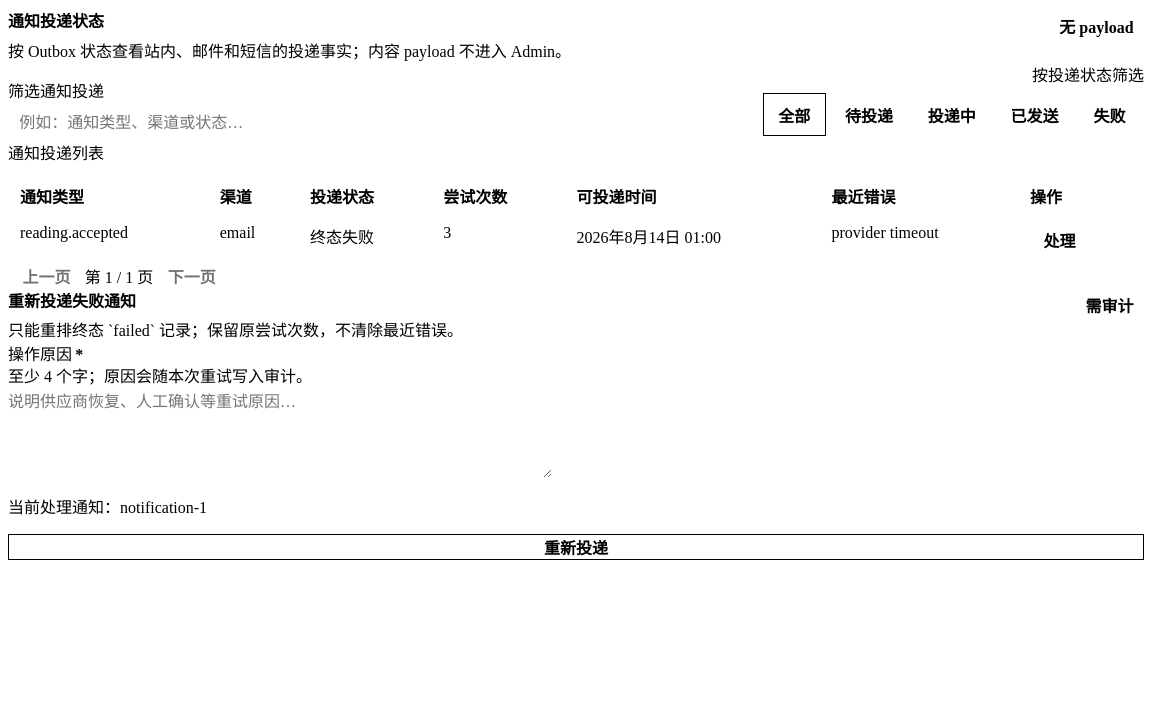
Test case: AdminNotificationsSurface › shows delivery facts without payload and retries a failed notification
Expected: the text "终态失败" is shown, [298,216,431,264]
Expected: the text "provider timeout" is shown, [820,216,1018,264]
In the text box labelled "操作原因": coordinates (280, 434) [8,390,552,478], type "供应商恢复，人工确认重试"
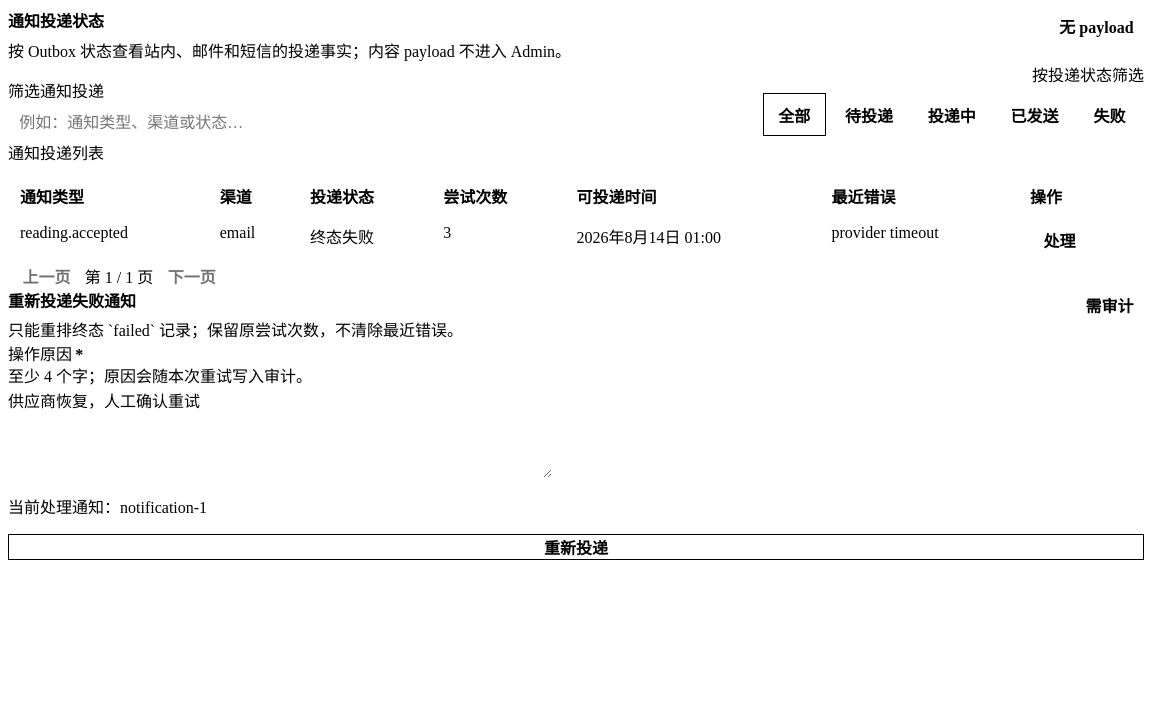
Click the button "重新投递": coordinates (576, 547) [8,534,1144,560]
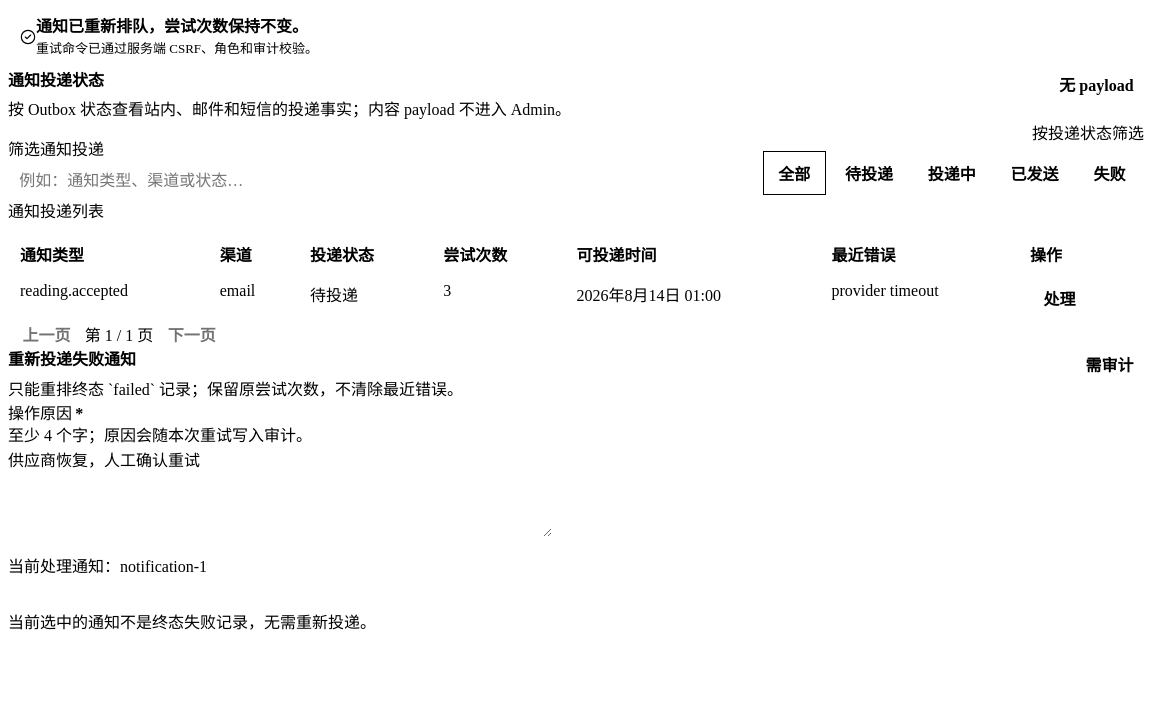
Expected: the heading "通知已重新排队，尝试次数保持不变。" is shown, [36,18,308,35]
Expected: the number of messages is 1, [20,18,318,56]
